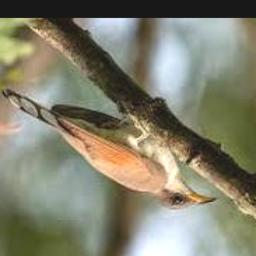Cuckoo: (3, 89, 218, 210)
